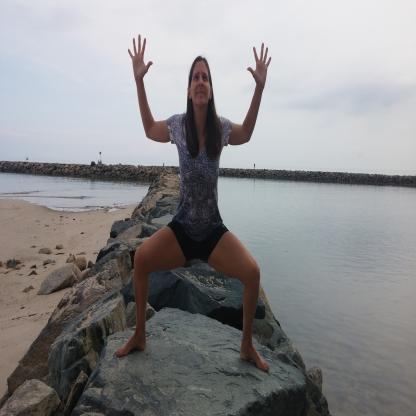godness: (112, 23, 276, 378)
